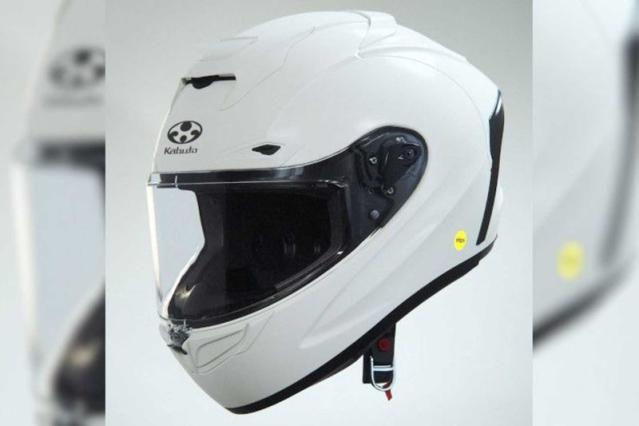helmet: (145, 4, 504, 426)
